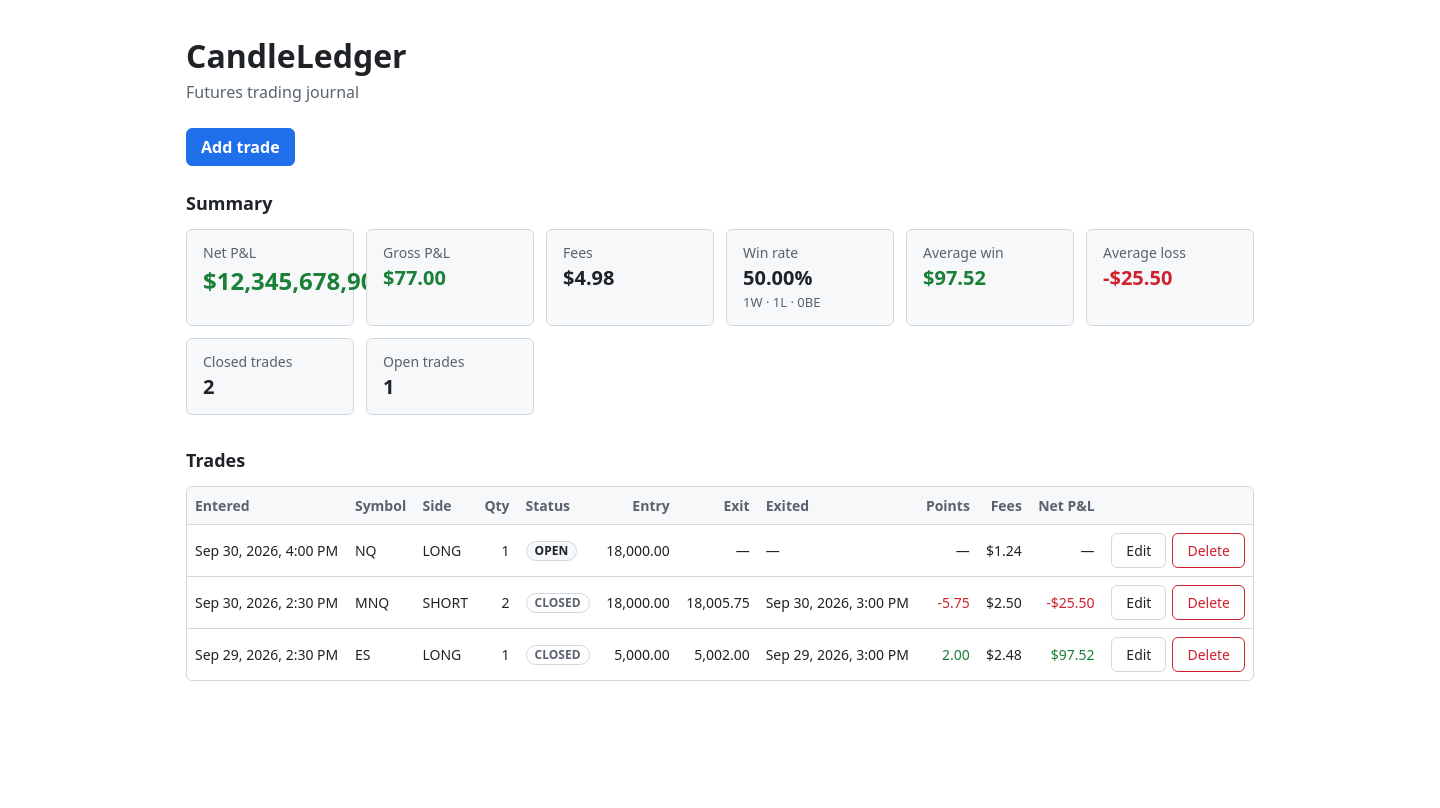
Test case: Edit trade › closes an OPEN trade
Check: the table is shown, box [187, 486, 1253, 680]
Click the button with aria-label "Edit NQ LONG". click: click(1139, 550)
box: [1111, 532, 1166, 568]
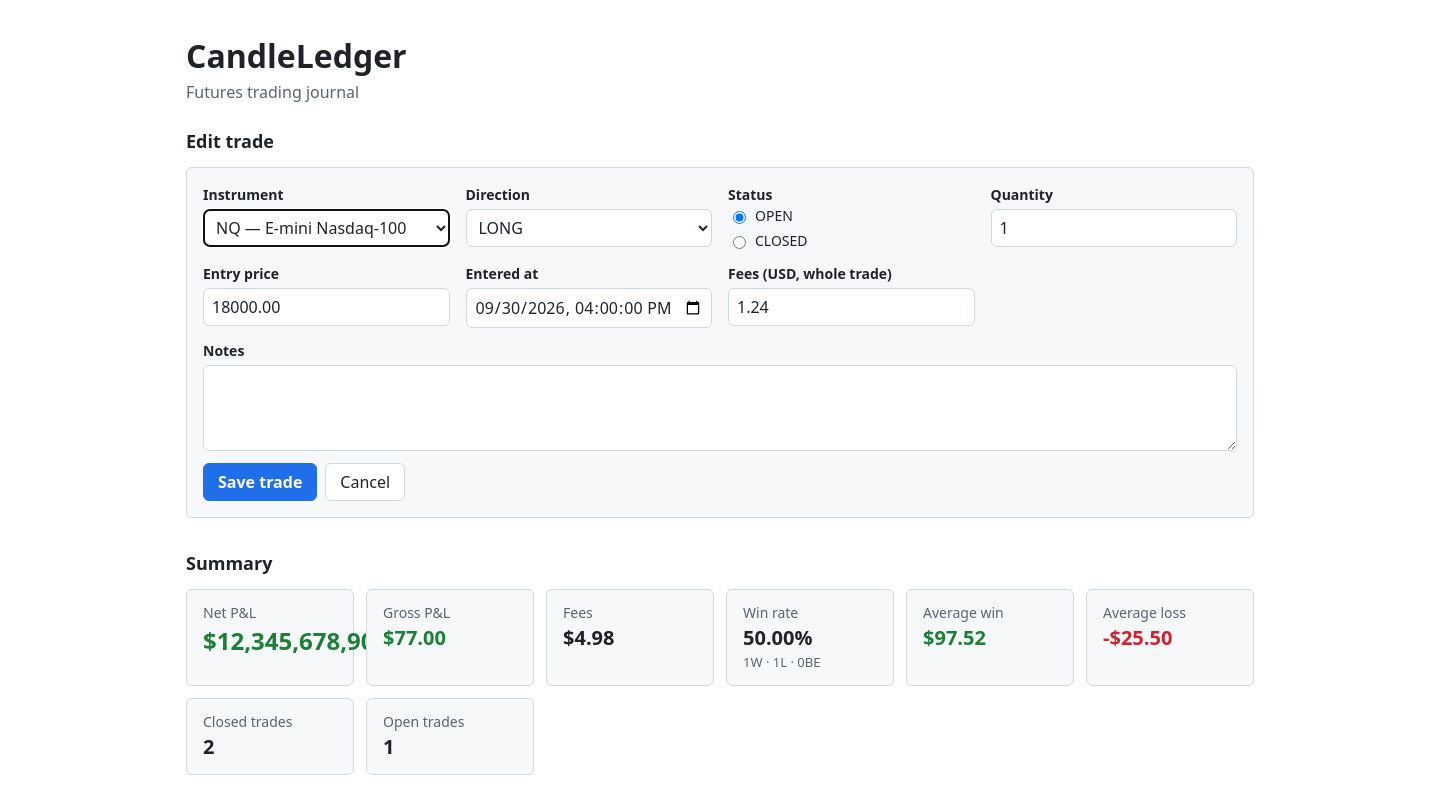
Click the radio button labelled "CLOSED". click: click(740, 242)
box: [733, 236, 746, 248]
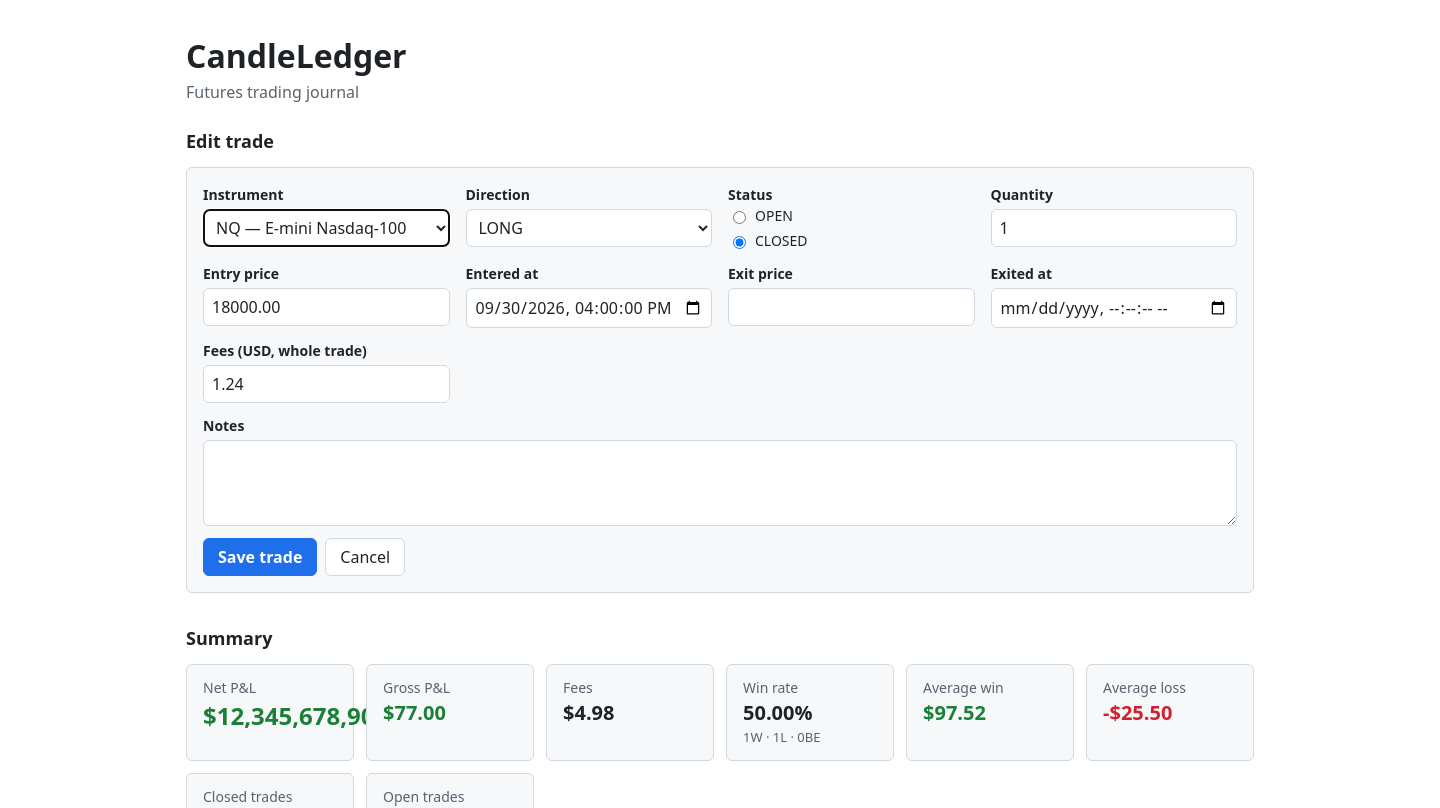
Check: the field labelled "Exit price" is empty
Check: the field labelled "Exited at" is empty, box [990, 288, 1237, 328]
Type "18010.00" into the field labelled "Exit price". click: (851, 307)
box: [728, 288, 974, 326]
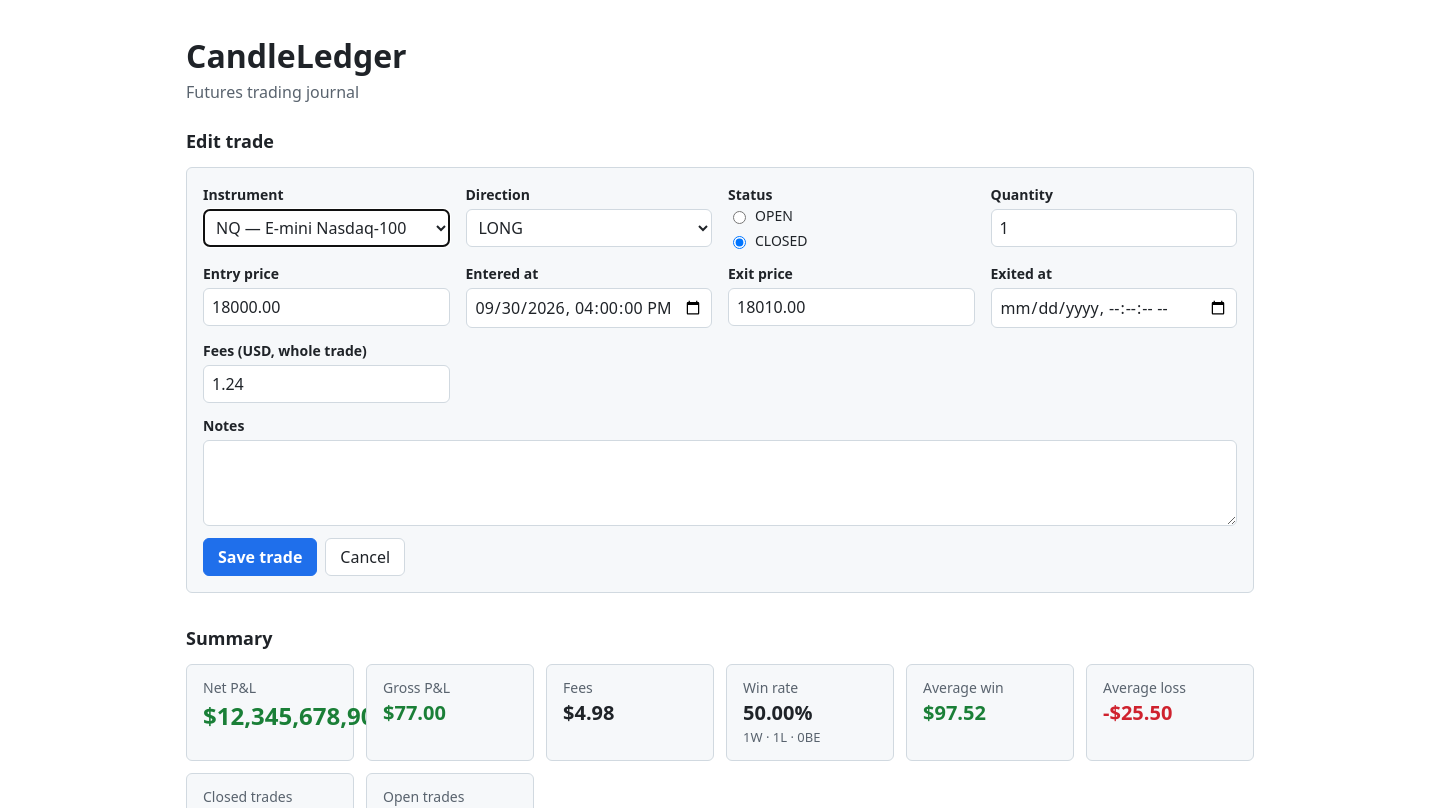
Type "2026-09-30T16:30:15" into the field labelled "Exited at". click: (1114, 308)
box: [990, 288, 1237, 328]
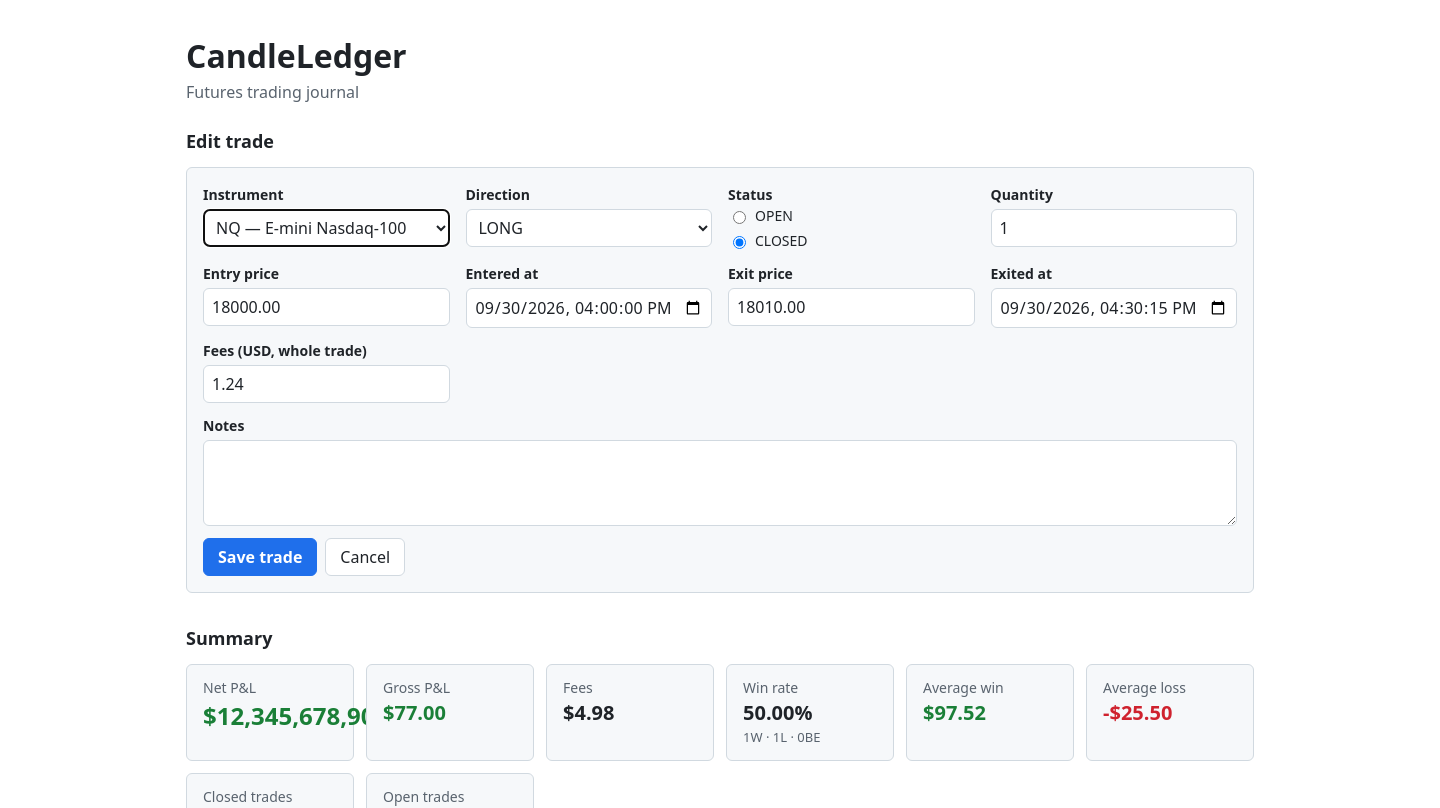
Click the button "Save trade". click: click(260, 557)
box: [203, 538, 317, 576]
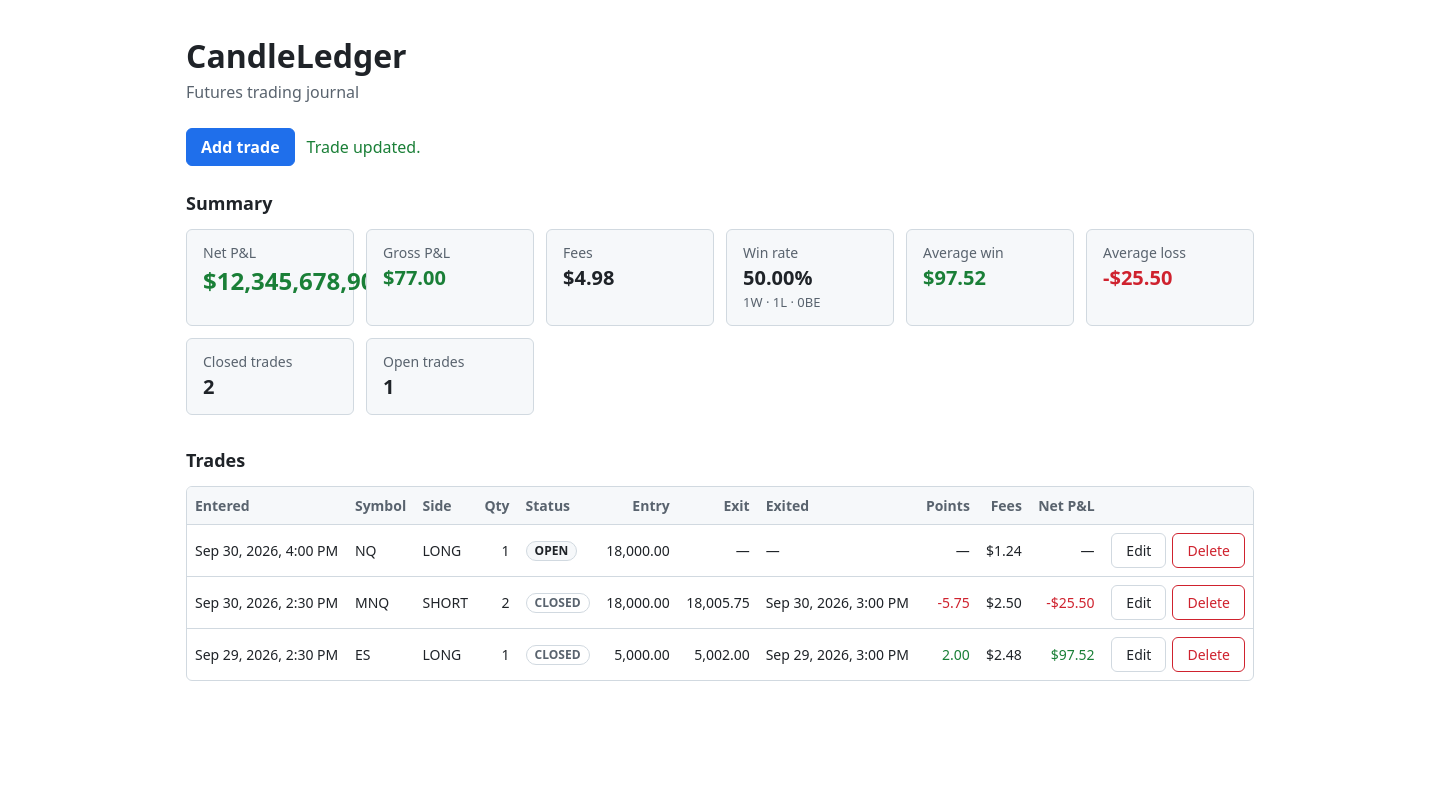
Check: the text "Trade updated." is shown, box [307, 135, 420, 159]
